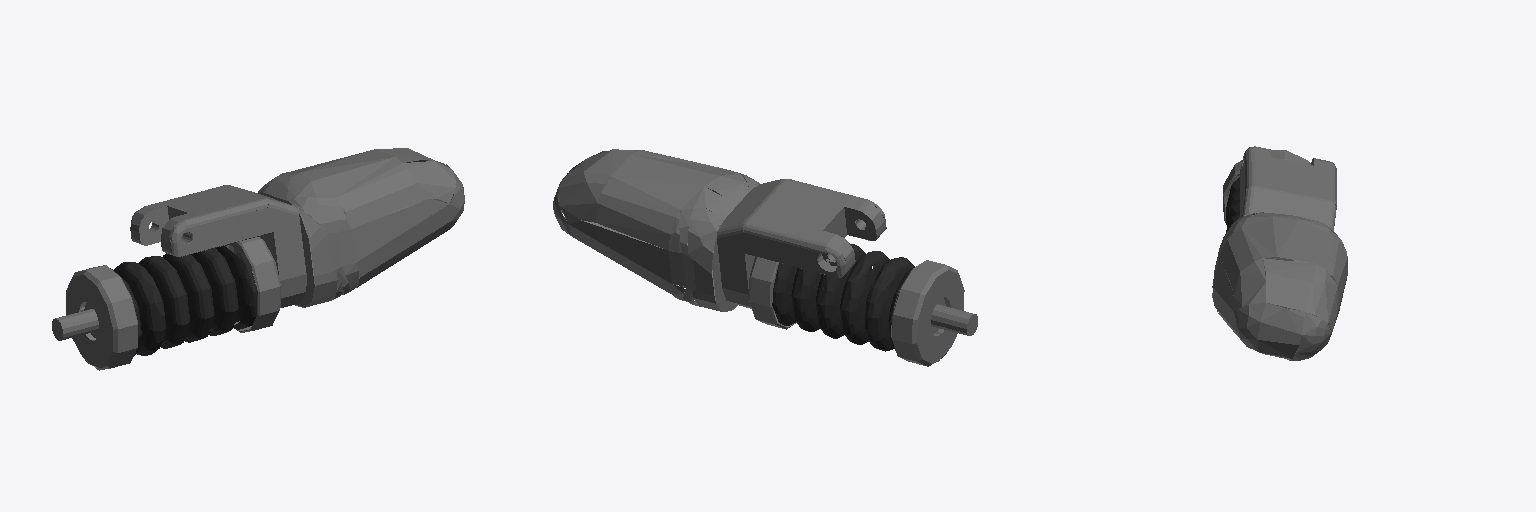
The picture shows the model from 3 angles: view 1: azimuth 30°, elevation 25°; view 2: azimuth 150°, elevation 25°; view 3: azimuth 270°, elevation 25°; orthographic projection.
Size of the model in its own units: 0.06 by 0.0193 by 0.0175.
Materials: 1 (1 with a texture image).